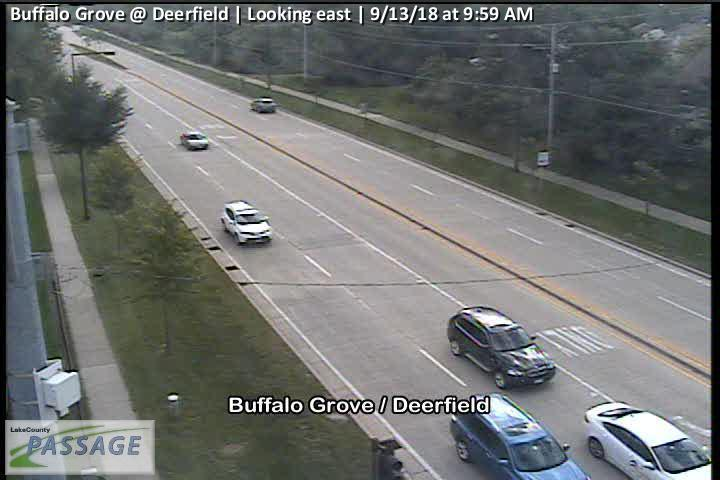SUV: (451, 392, 589, 480)
Sedan: (581, 400, 713, 480), (446, 306, 556, 388), (220, 200, 272, 243), (178, 131, 210, 150), (251, 96, 277, 113)
